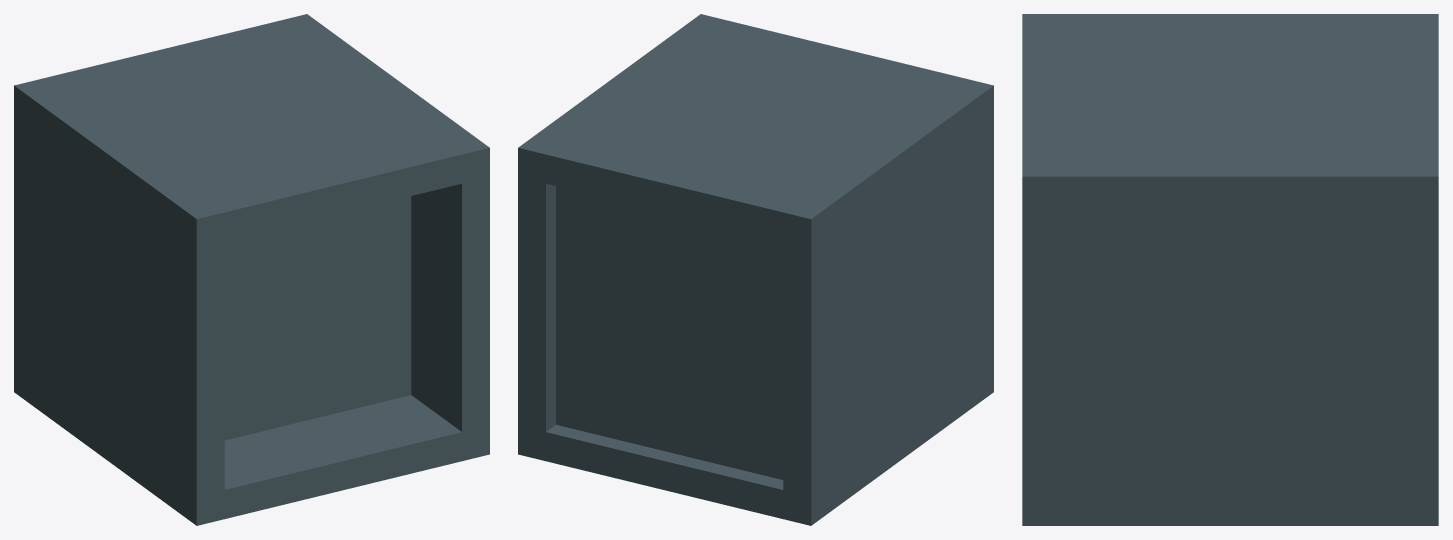
File: FacadeKit_StorefrontFrame_LOD1.glb
The picture shows the model from 3 angles, left to right: view 1: azimuth 30°, elevation 25°; view 2: azimuth 150°, elevation 25°; view 3: azimuth 270°, elevation 25°; orthographic projection. The views are drawn at different scales.
Parts seen in each view (by area): view 1: FacadeKit_StorefrontFrame_LOD1; view 2: FacadeKit_StorefrontFrame_LOD1; view 3: FacadeKit_StorefrontFrame_LOD1.
Part boxes in pixels (x1,y1,x2,y2): FacadeKit_StorefrontFrame_LOD1: (14, 14, 489, 525); FacadeKit_StorefrontFrame_LOD1: (518, 14, 993, 525); FacadeKit_StorefrontFrame_LOD1: (1022, 14, 1438, 525).
Bounding box in the file's own units: 1 × 1 × 1.08.
